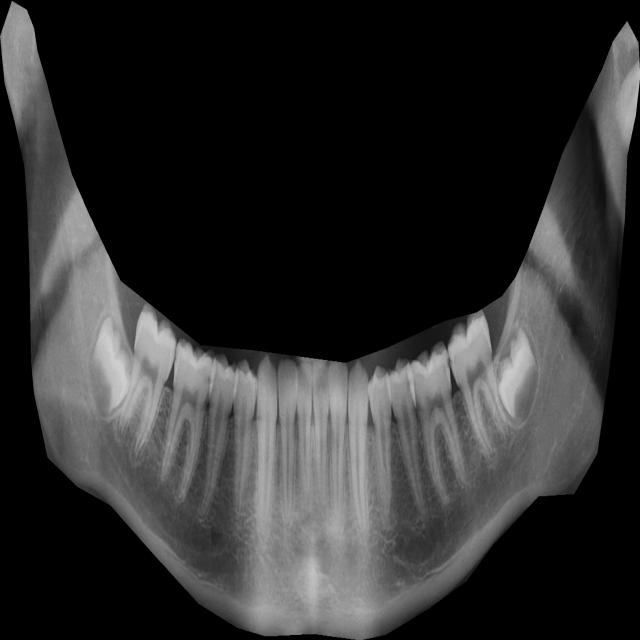mandibula: (0, 1, 640, 640)
